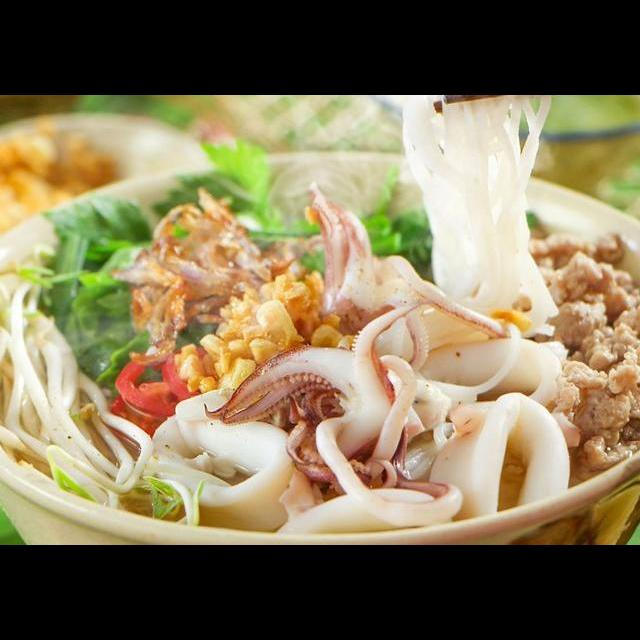bun: (390, 96, 569, 362)
muc: (199, 291, 464, 503), (295, 176, 516, 376), (134, 408, 314, 539), (424, 388, 574, 533), (272, 482, 456, 545)
thit bam: (519, 221, 640, 489)
